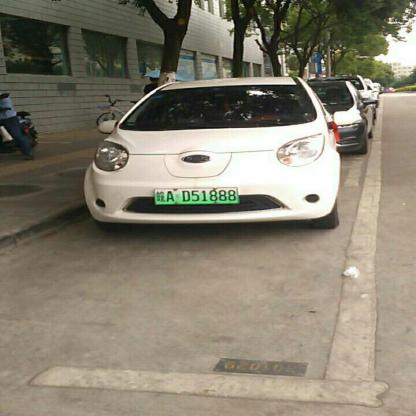lp: (154, 186, 238, 203)
